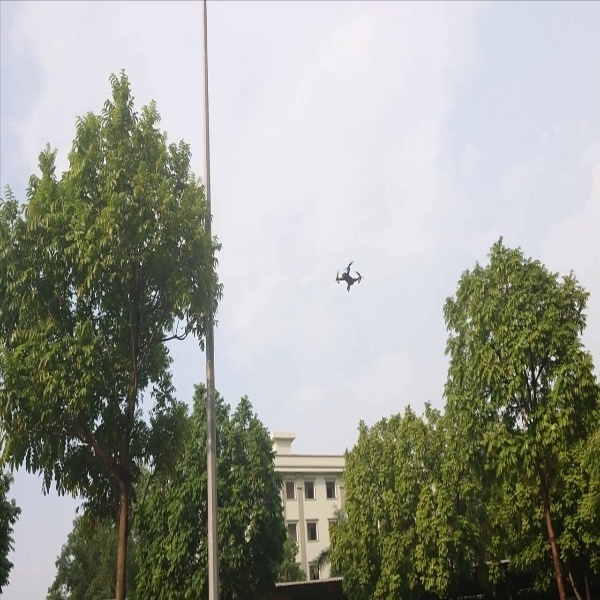drone: (323, 257, 368, 293)
